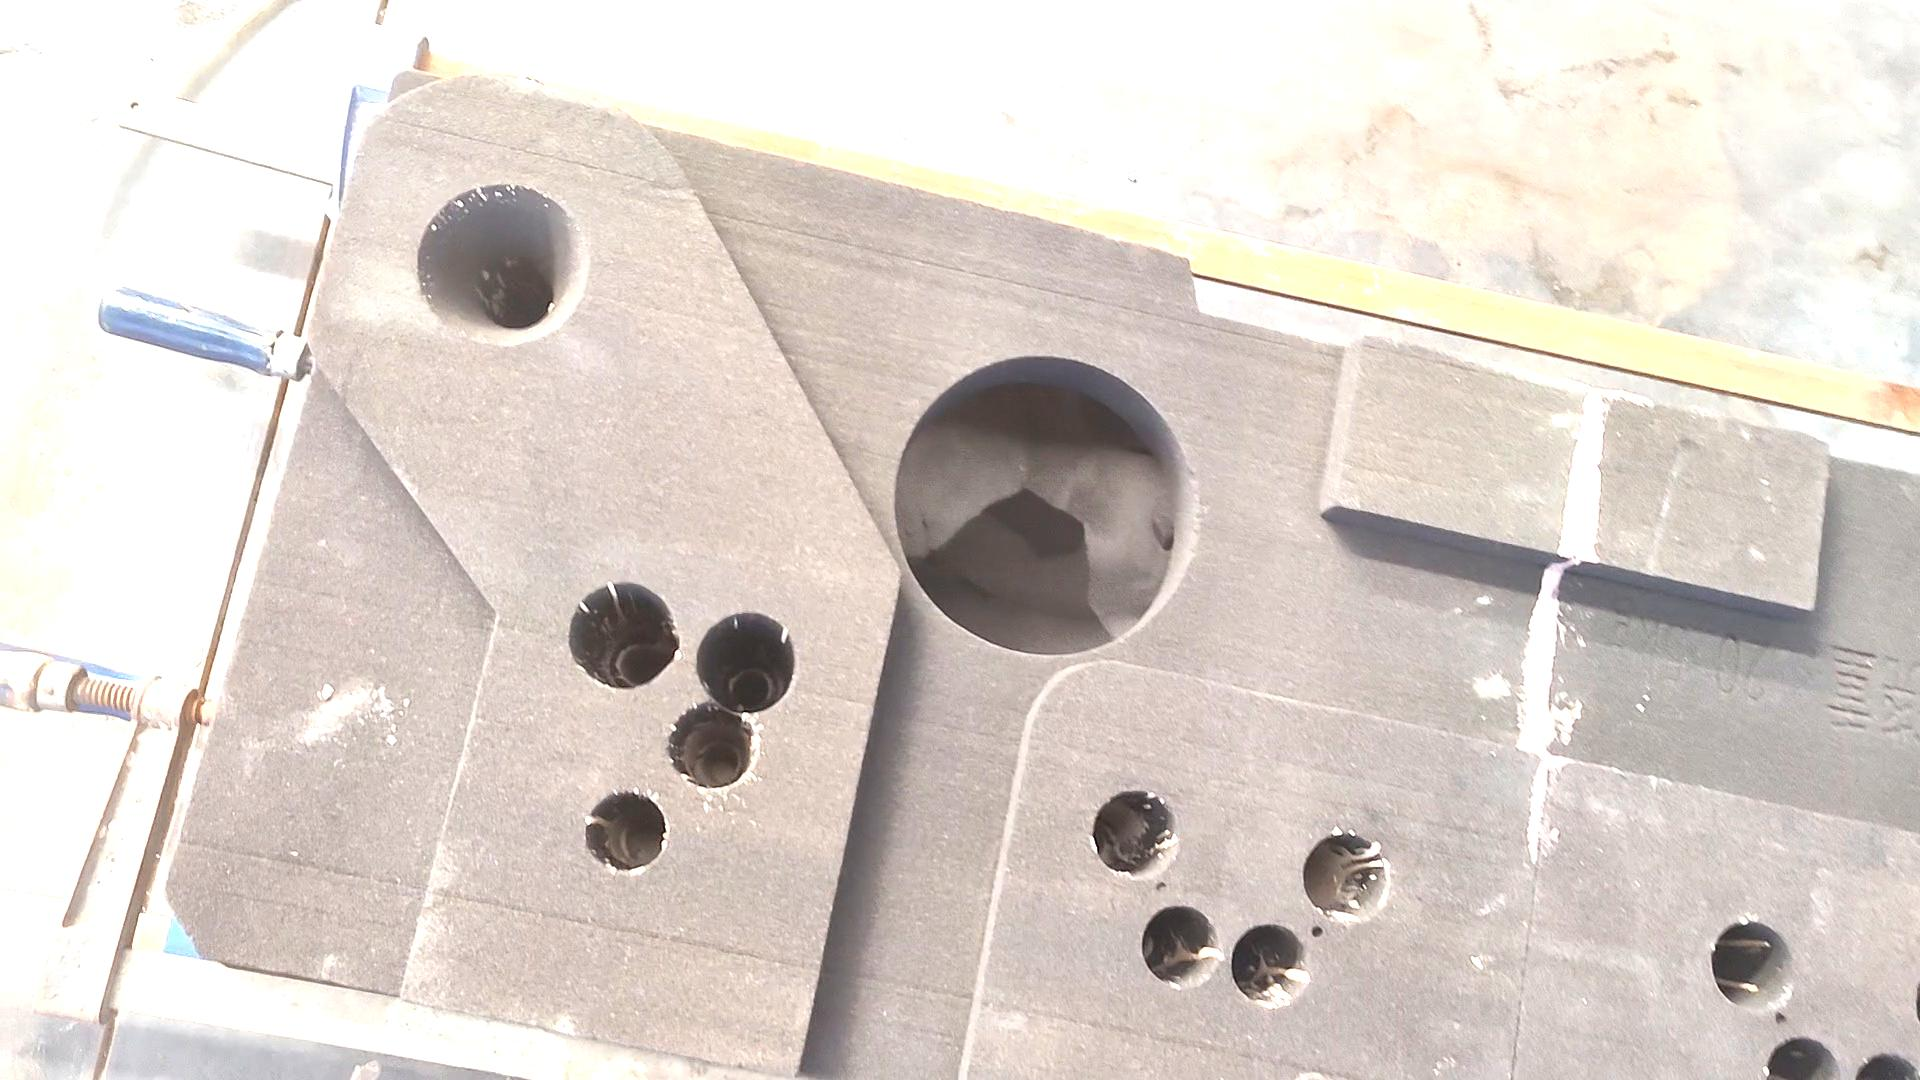pouring hole: (415, 185, 589, 351)
